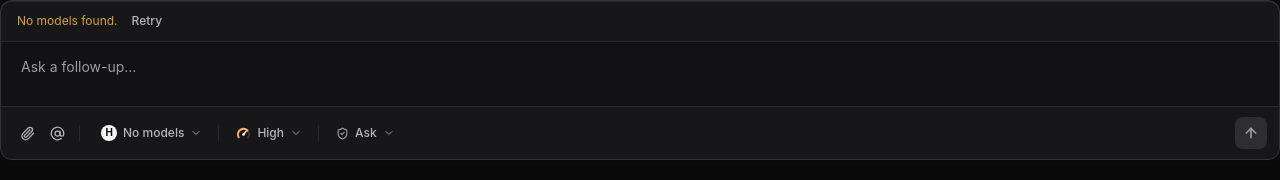
Scenario: Composer › completes a word from recent transcript text with Tab
Type "reconc" into the dropdown at (640, 80), box [17,54,1263,106]
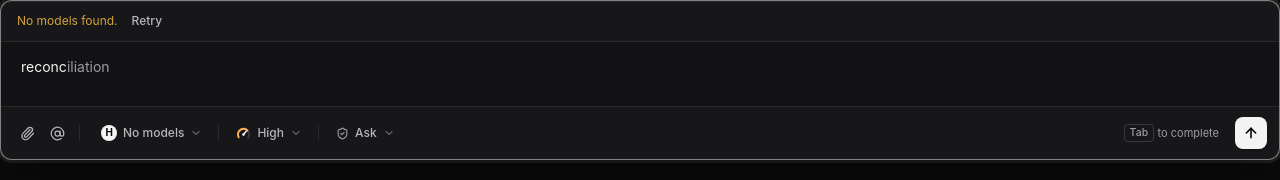
Expected: the text with class "ghost-suffix" reads "iliation", [67,58,110,75]
